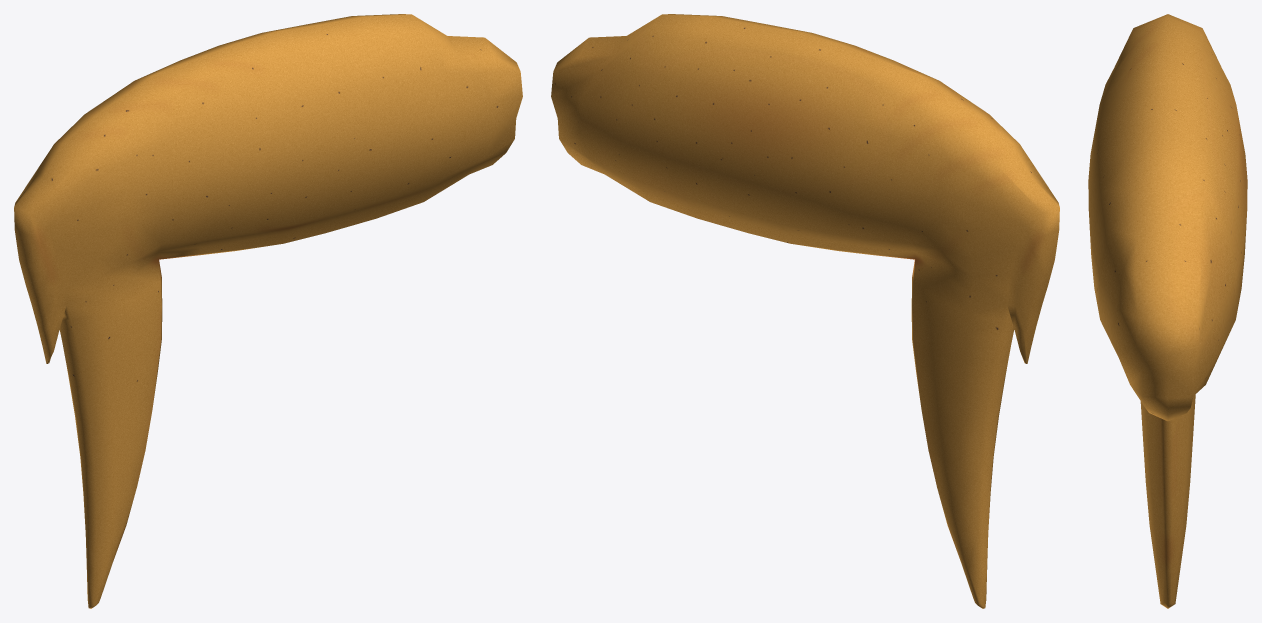
The model's file is ChickenWings.fbx.
The picture shows the model from 3 angles, left to right: view 1: azimuth 30°, elevation 25°; view 2: azimuth 150°, elevation 25°; view 3: azimuth 270°, elevation 25°; orthographic projection. The views are drawn at different scales.
Visible parts, largest first — view 1: ChickenWings; view 2: ChickenWings; view 3: ChickenWings.
Part boxes in pixels (left/top/right/bottom): ChickenWings: left=14, top=14, right=522, bottom=608; ChickenWings: left=551, top=14, right=1059, bottom=608; ChickenWings: left=1088, top=14, right=1247, bottom=608.
Bounding box in the file's own units: 70.27 × 70.5 × 15.75.
Materials: 1 (1 with a texture image).
